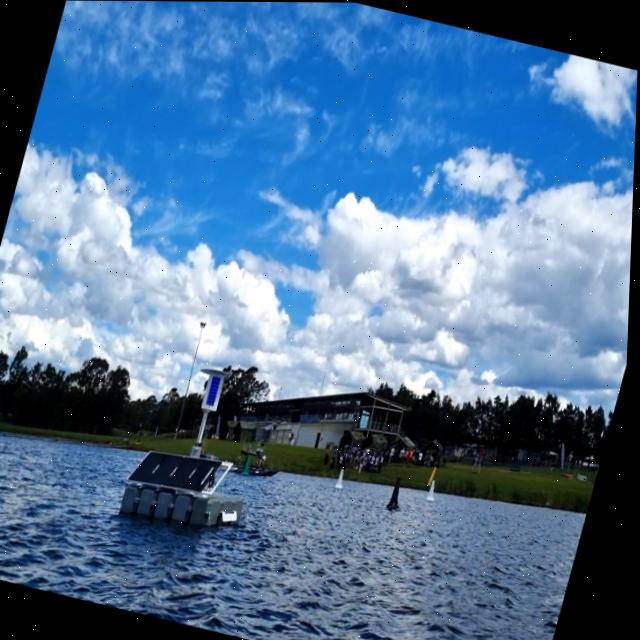led: (205, 373, 227, 410)
